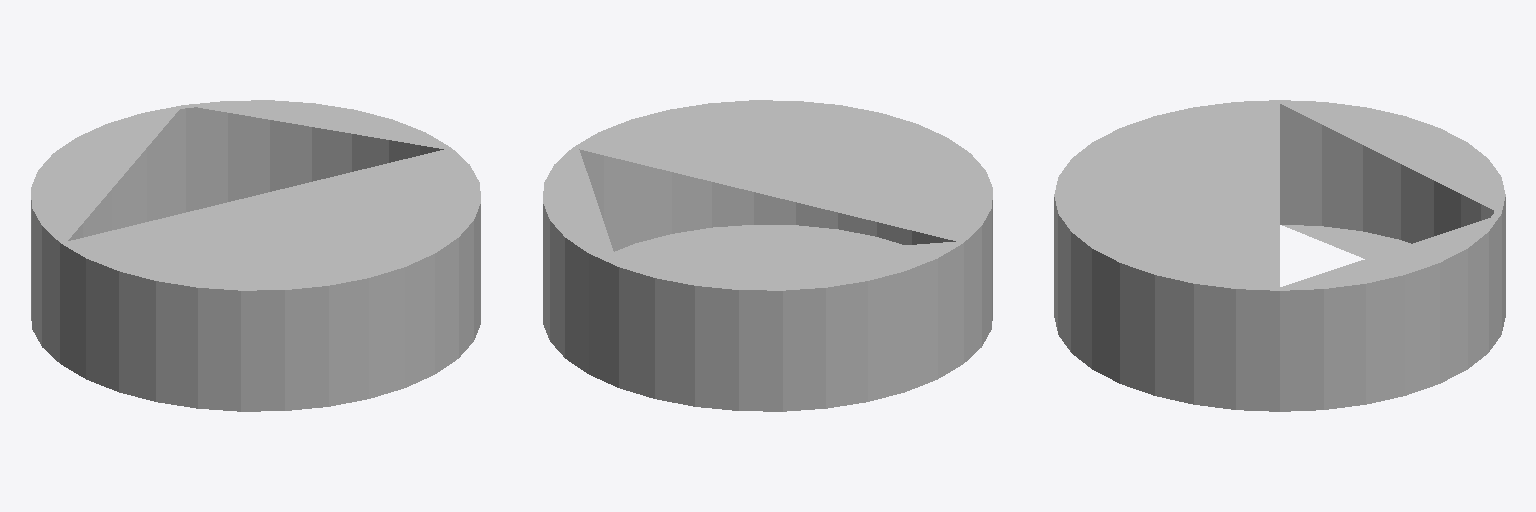
File: stars.obj
3 views of the same model, side by side, from view 1: azimuth 30°, elevation 25°; view 2: azimuth 150°, elevation 25°; view 3: azimuth 270°, elevation 25° (orthographic).
Parts seen in each view (by area): view 1: Cylinder.001_Cylinder.002; view 2: Cylinder.001_Cylinder.002; view 3: Cylinder.001_Cylinder.002.
Boxes of the visible parts, x1=… form: Cylinder.001_Cylinder.002: x1=31, y1=100, x2=480, y2=411; Cylinder.001_Cylinder.002: x1=543, y1=100, x2=992, y2=411; Cylinder.001_Cylinder.002: x1=1054, y1=100, x2=1505, y2=411.
Size of the model in its own units: 1.87 by 0.552 by 1.87.